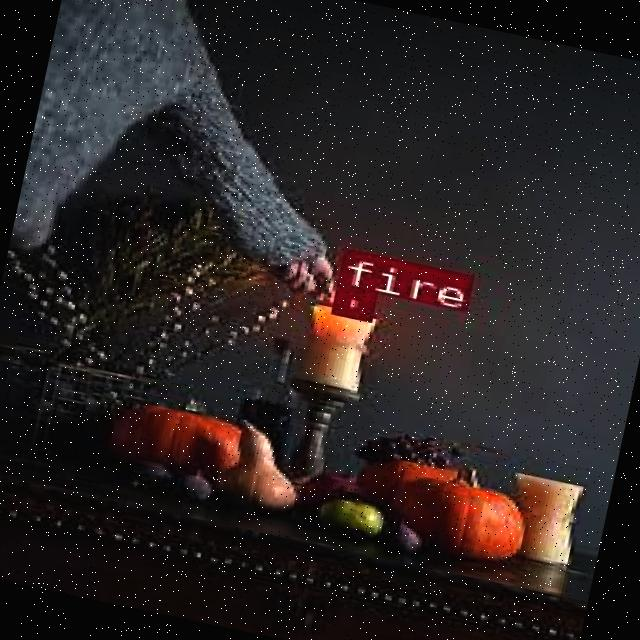fire: (328, 282, 372, 319)
